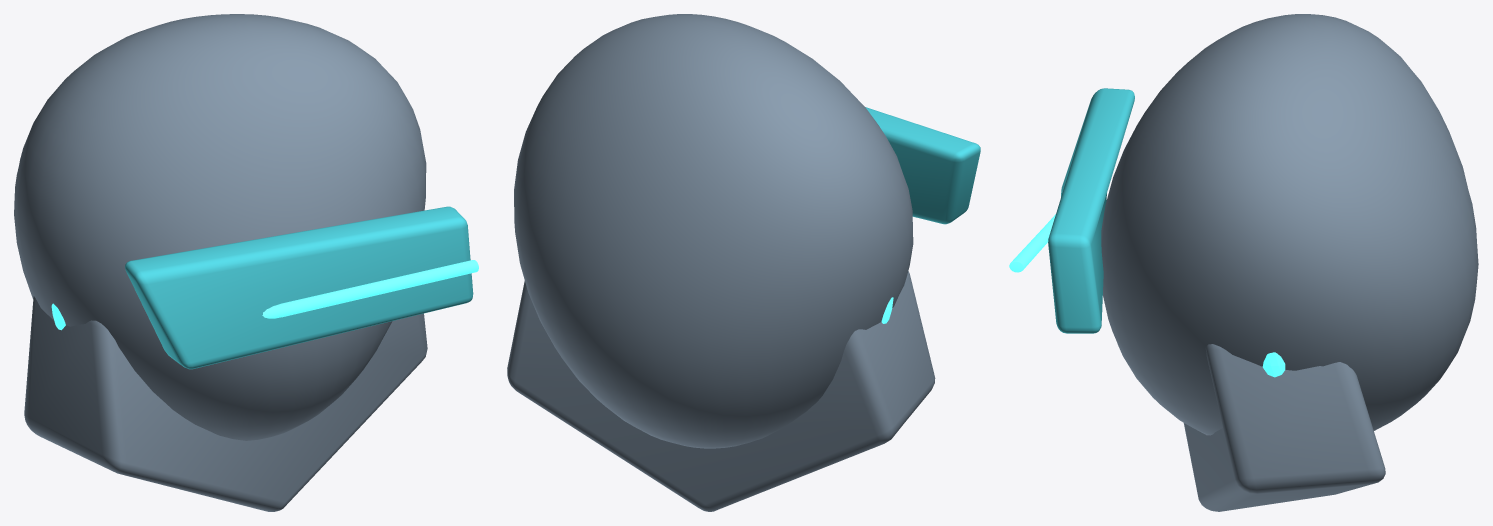
Rendered from helm_v8.glb.
3 views of the same model, side by side, from view 1: azimuth 30°, elevation 25°; view 2: azimuth 150°, elevation 25°; view 3: azimuth 270°, elevation 25° (orthographic). The views are drawn at different scales.
Visible parts, largest first — view 1: SALLET_SHELL_PRIMARY, SALLET_TAIL_PRIMARY, SALLET_VISOR_ACCENT, SALLET_SLIT_EMISSIVE; view 2: SALLET_SHELL_PRIMARY, SALLET_TAIL_PRIMARY, SALLET_VISOR_ACCENT; view 3: SALLET_SHELL_PRIMARY, SALLET_TAIL_PRIMARY, SALLET_VISOR_ACCENT, SALLET_SLIT_EMISSIVE.
Part boxes in pixels (bbox=[...]): SALLET_SHELL_PRIMARY: bbox=[14, 14, 426, 440]; SALLET_TAIL_PRIMARY: bbox=[24, 296, 427, 511]; SALLET_VISOR_ACCENT: bbox=[125, 206, 473, 369]; SALLET_SLIT_EMISSIVE: bbox=[262, 260, 478, 318]; SALLET_SHELL_PRIMARY: bbox=[514, 14, 913, 448]; SALLET_TAIL_PRIMARY: bbox=[507, 271, 935, 511]; SALLET_VISOR_ACCENT: bbox=[865, 107, 980, 224]; SALLET_SHELL_PRIMARY: bbox=[1101, 14, 1478, 435]; SALLET_TAIL_PRIMARY: bbox=[1183, 344, 1385, 511]; SALLET_VISOR_ACCENT: bbox=[1048, 88, 1134, 333]; SALLET_SLIT_EMISSIVE: bbox=[1009, 214, 1055, 272].
Bounding box in the file's own units: 1.64 × 1.94 × 1.77.
